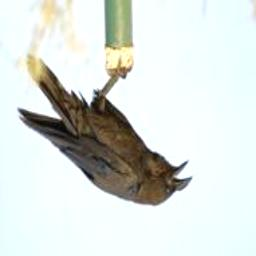Crow: (13, 54, 196, 215)
